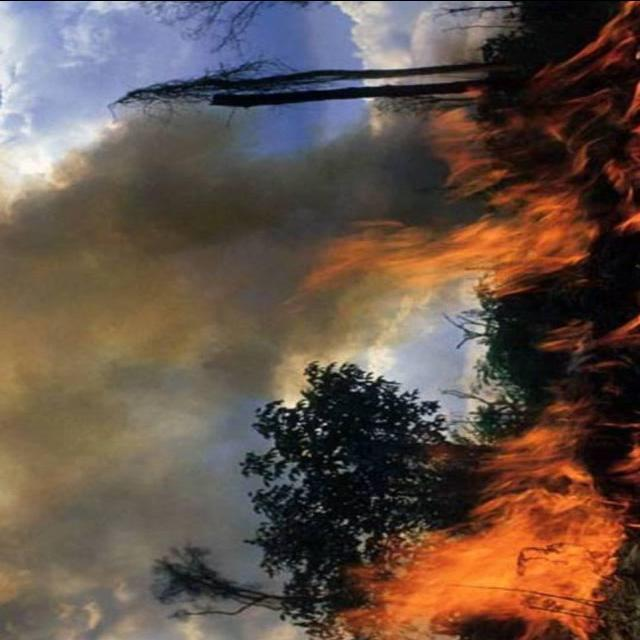Fire: (321, 22, 639, 292), (304, 410, 638, 634), (531, 312, 634, 360)
